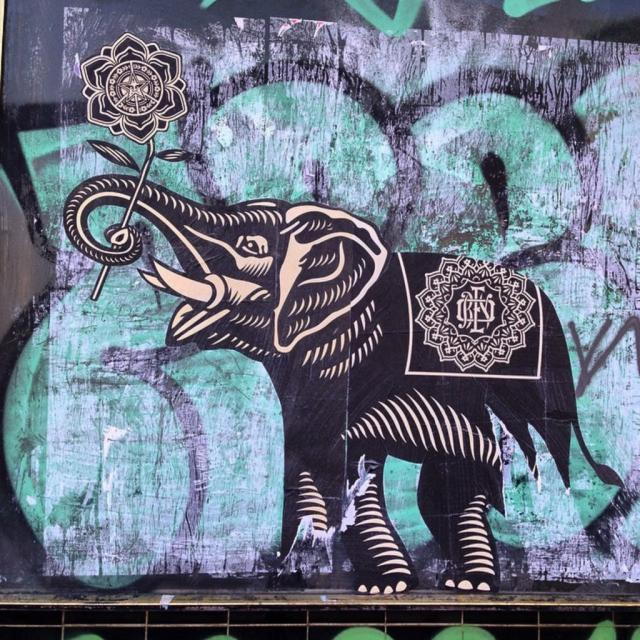elephant: (102, 156, 543, 584)
